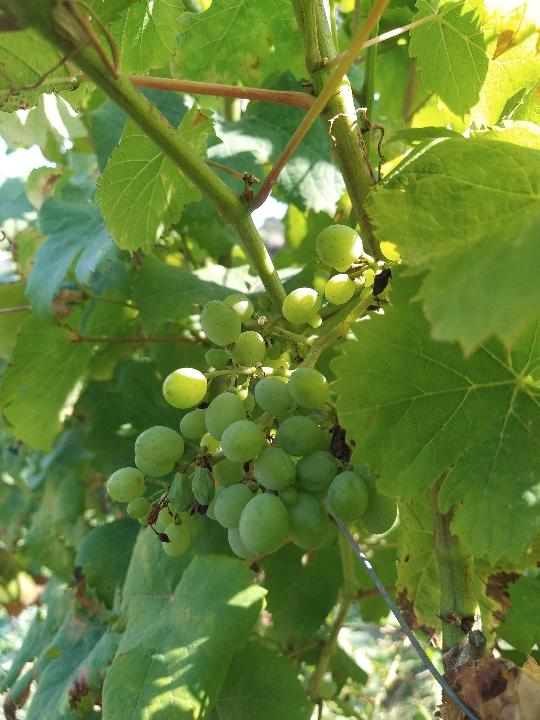grape: (103, 219, 400, 564)
